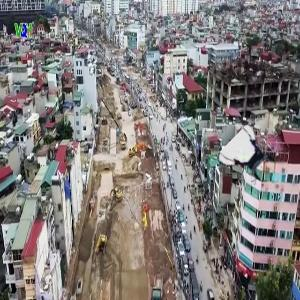drone: (226, 132, 278, 184)
